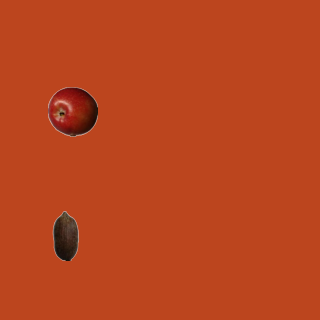Apple Braeburn: (47, 86, 97, 136)
Nut Pecan: (40, 210, 90, 260)
